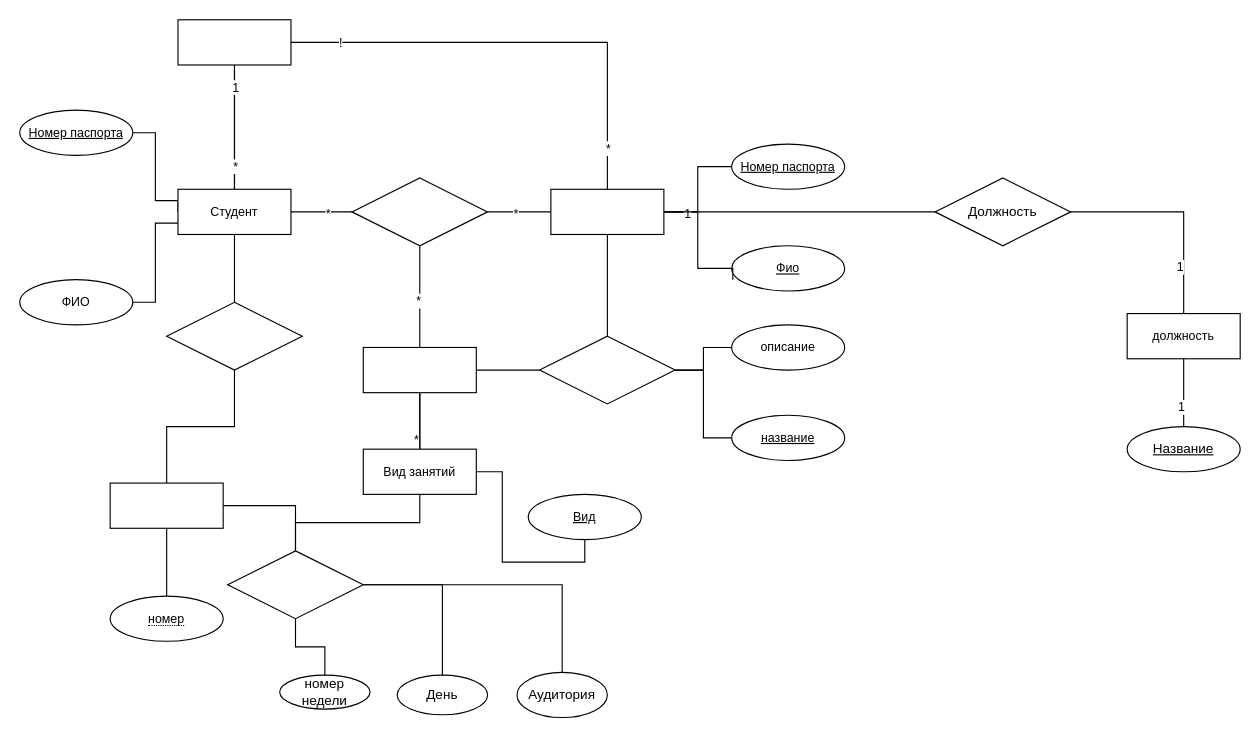
This 1260x738 diagram has some shape labels left out. Each missing label, with the centre of its shape:
Ведомость: (419,211)
Гуппа: (166,505)
Директор: (234,42)
дисциплина: (419,369)
Нагрузка: (606,369)
обучается: (234,335)
Преподователь: (607,211)
Расписание: (295,584)
